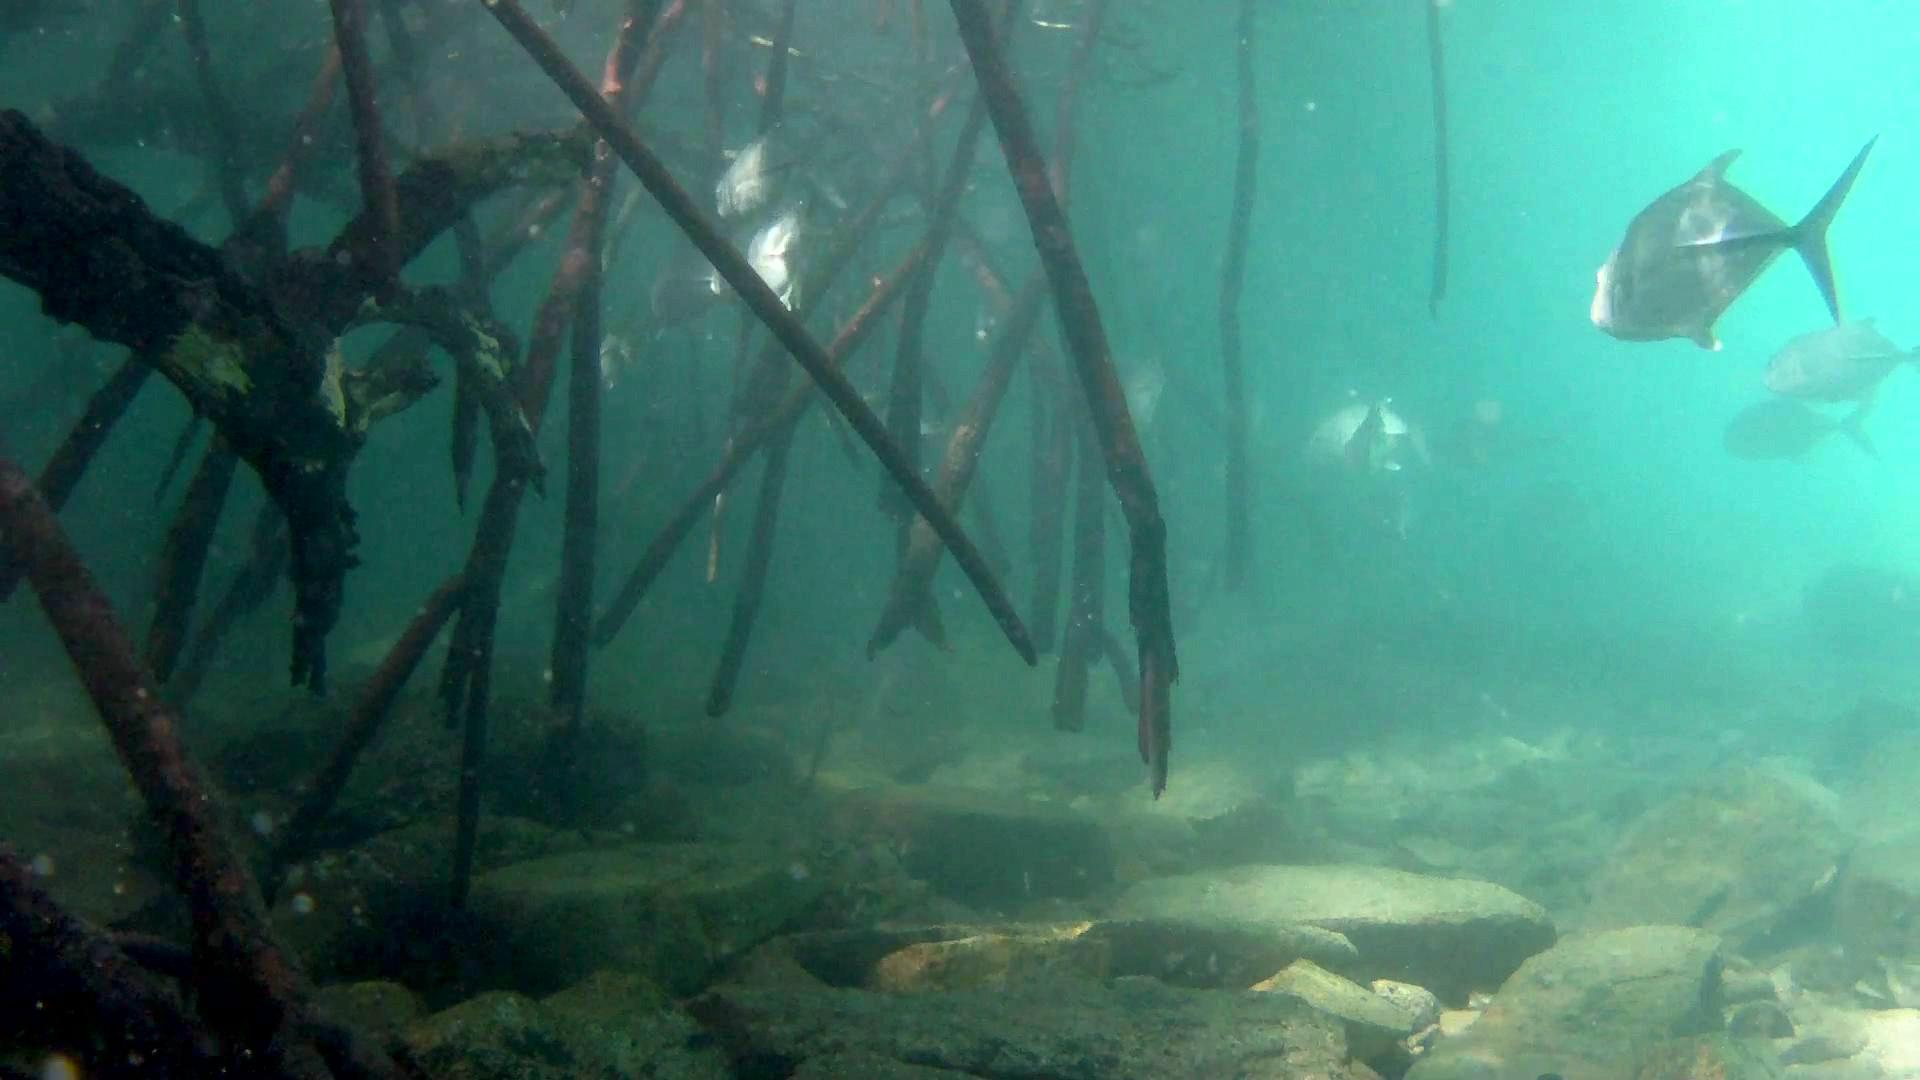caranx: (1584, 131, 1882, 360)
